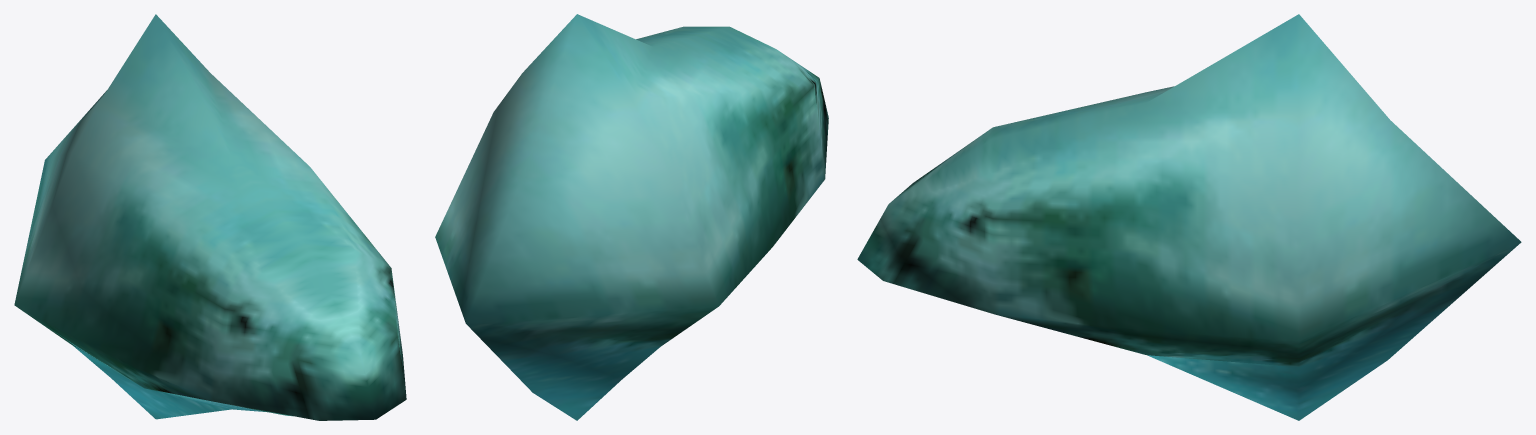
File: obj_sklelewaticeshk01.glb
3 renders of one model, left to right at view 1: azimuth 30°, elevation 25°; view 2: azimuth 150°, elevation 25°; view 3: azimuth 270°, elevation 25°, orthographic.
Parts seen in each view (by area): view 1: fxmesh_0; view 2: fxmesh_0; view 3: fxmesh_0.
Part boxes in pixels (bbox=[...]): fxmesh_0: bbox=[14, 14, 406, 420]; fxmesh_0: bbox=[435, 14, 828, 420]; fxmesh_0: bbox=[857, 14, 1521, 420].
Size of the model in its own units: 0.7539 by 1.03 by 1.53.
1 material, 1 textured.
